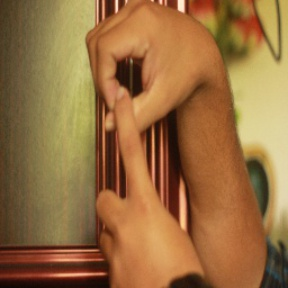Q: (85, 1, 210, 272)
